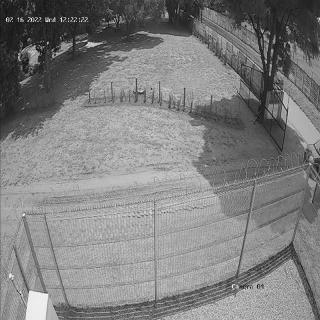car: (305, 139, 319, 180)
